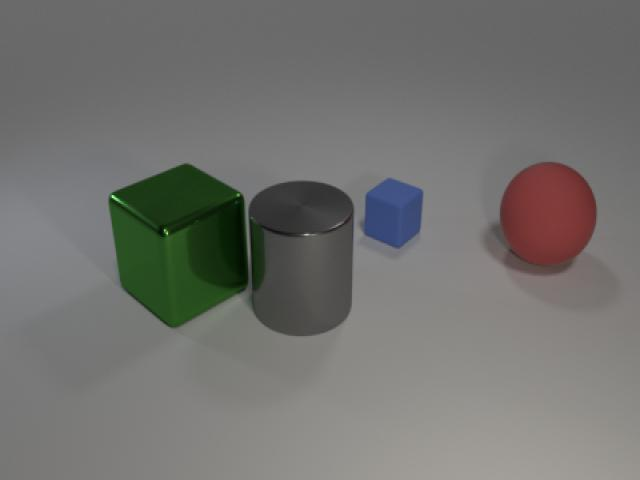cylinder: (247, 172, 356, 340)
round ball: (495, 154, 600, 274)
